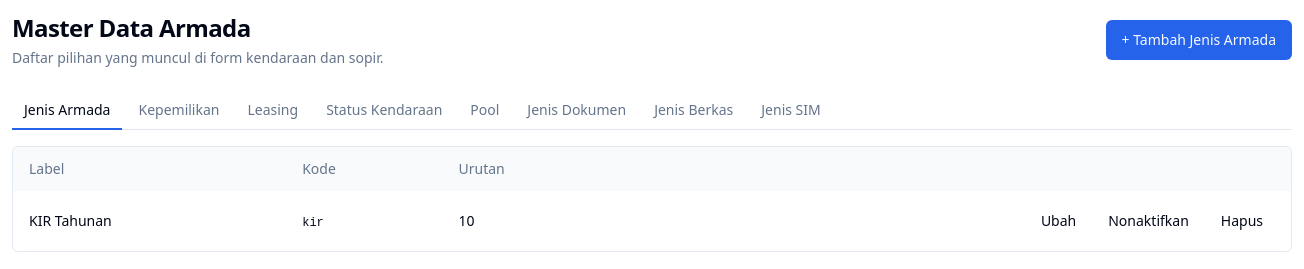
Test: FleetMasterDataPage › renders each column of a row: label, code, sort order and threshold
Click the tab "Jenis Dokumen" at (577, 111), box left=515, top=92, right=638, bottom=130
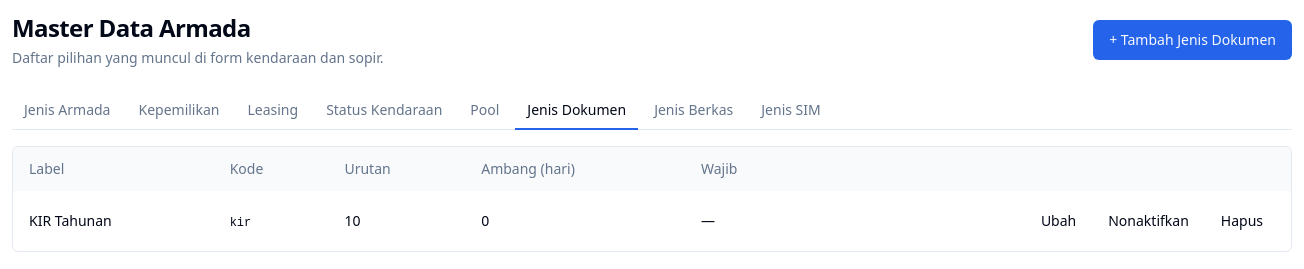
Expected: the cell "KIR Tahunan" is shown, left=13, top=191, right=214, bottom=251
Now the column headings read "Label", "Kode", "Urutan", "Ambang (hari)", "Wajib", "", in this order, box left=13, top=147, right=214, bottom=191; left=214, top=147, right=328, bottom=191; left=328, top=147, right=465, bottom=191; left=465, top=147, right=685, bottom=191; left=685, top=147, right=805, bottom=191; left=805, top=147, right=1291, bottom=191
Now the cell "0" is shown, box left=465, top=191, right=685, bottom=251
